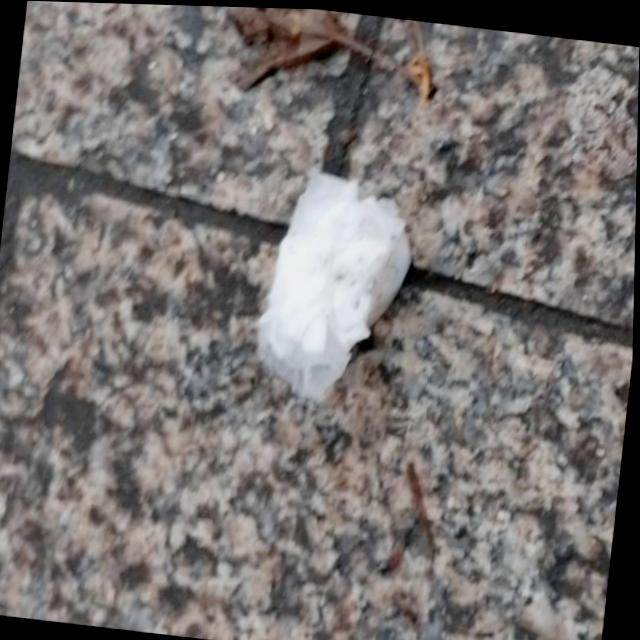Paper: (242, 156, 423, 412)
